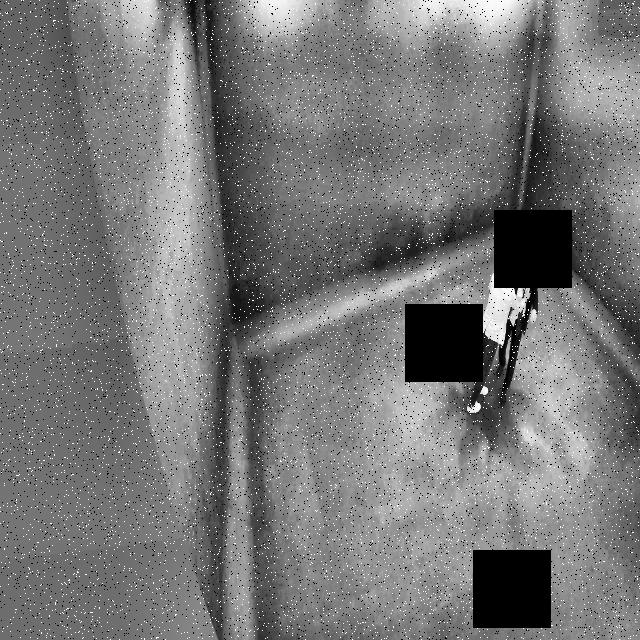assult: (475, 245, 542, 412)
